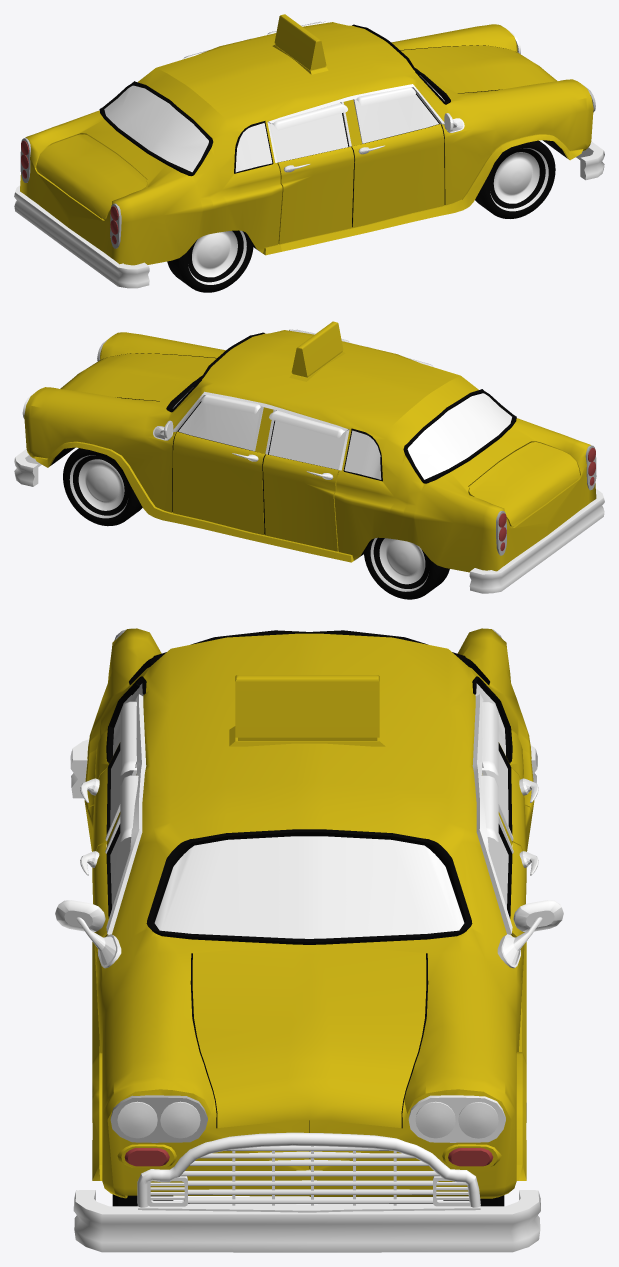
Rendered from AL_taxi_TL.fbx.
3 views of the same model, one above another, from view 1: azimuth 30°, elevation 25°; view 2: azimuth 150°, elevation 25°; view 3: azimuth 270°, elevation 25° (orthographic). The views are drawn at different scales.
Visible parts, largest first — view 1: pCube40, pCylinder38, pCylinder39, pCube31; view 2: pCube40, pCylinder44, pCylinder43, pCube31; view 3: pCube40, pCube31.
Part boxes in pixels (left/top/right/bottom): pCube40: left=14, top=21, right=604, bottom=288; pCylinder38: left=475, top=140, right=555, bottom=218; pCylinder39: left=167, top=230, right=253, bottom=292; pCube31: left=272, top=14, right=328, bottom=74; pCube40: left=14, top=329, right=604, bottom=593; pCylinder44: left=63, top=448, right=142, bottom=526; pCylinder43: left=364, top=537, right=449, bottom=599; pCube31: left=289, top=321, right=345, bottom=381; pCube40: left=55, top=628, right=563, bottom=1252; pCube31: left=229, top=675, right=385, bottom=746.
Bounding box in the file's own units: 3.87 × 1.5 × 1.75.
